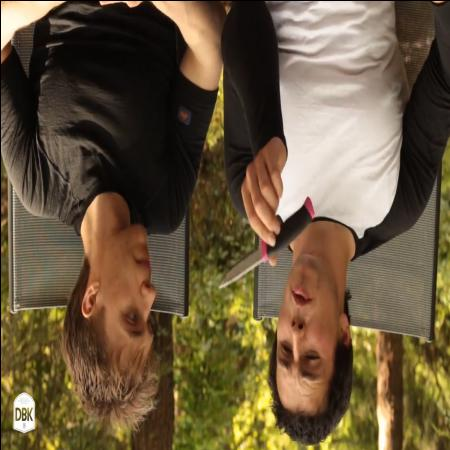long weapon: (211, 190, 317, 298)
